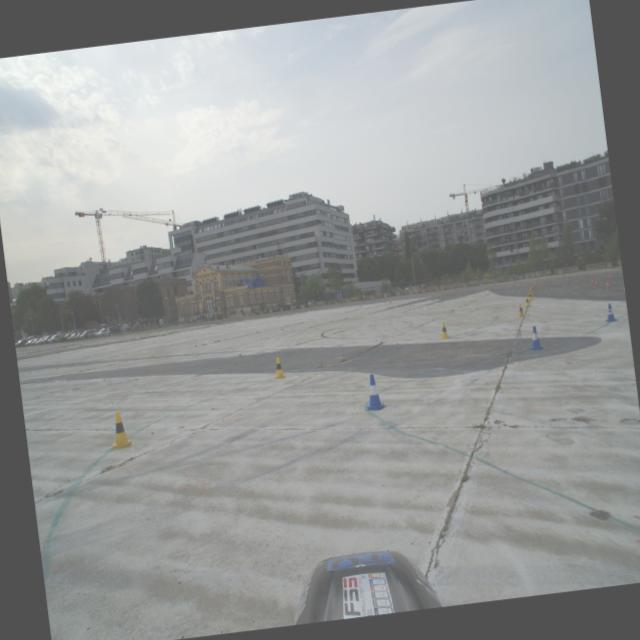blue_cone: (360, 372, 387, 412), (526, 324, 544, 351), (602, 302, 619, 322)
orange_cone: (604, 279, 610, 289), (589, 277, 594, 284), (594, 278, 598, 286), (532, 282, 536, 289), (516, 282, 520, 288), (538, 278, 542, 284), (532, 281, 536, 287), (566, 276, 570, 282), (582, 276, 586, 282), (622, 283, 624, 295), (490, 284, 493, 290), (382, 298, 386, 302), (388, 298, 391, 303), (417, 294, 420, 299), (358, 302, 361, 306), (420, 292, 422, 298), (454, 288, 456, 294), (460, 288, 463, 292), (500, 282, 502, 288)
yellow_cone: (106, 410, 134, 450), (270, 356, 287, 380), (438, 322, 450, 339), (516, 302, 526, 318), (524, 296, 532, 307), (527, 290, 533, 300), (528, 288, 534, 296), (530, 286, 534, 294)
